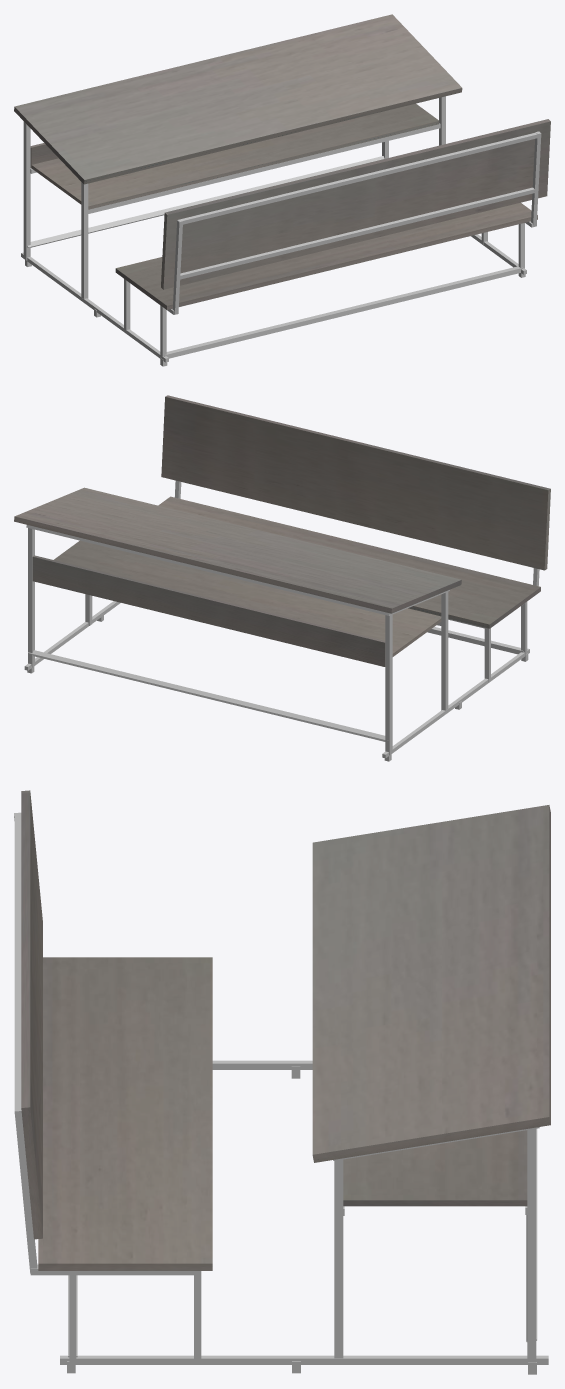
File: desk.obj
3 renders of one model, top to bottom at view 1: azimuth 30°, elevation 25°; view 2: azimuth 150°, elevation 25°; view 3: azimuth 270°, elevation 25°, orthographic. The views are drawn at different scales.
Visible parts, largest first — view 1: Cube, Cube.027, Cube.007, Cube.022, Cube.018, Cube.025, Cube.026, Cube.008, Cube.011, Cube.006, Cube.012, Cube.003 (+3 smaller); view 2: Cube.027, Cube, Cube.007, Cube.010, Cube.022, Cube.011, Cube.001, Cube.006, Cube.012, Cube.003, Cube.005, Cube.018 (+1 smaller); view 3: Cube, Cube.022, Cube.007, Cube.027, Cube.013, Cube.025, Cube.005, Cube.004, Cube.024, Cube.012, Cube.019, Cube.017 (+1 smaller).
Part boxes in pixels (x1,y1,x2,y2): Cube: (14,14,462,184); Cube.027: (161,119,550,289); Cube.007: (31,103,439,209); Cube.022: (115,202,537,309); Cube.018: (164,266,523,358); Cube.025: (178,132,540,224); Cube.026: (180,187,534,279); Cube.008: (88,123,440,213); Cube.011: (27,156,384,247); Cube.006: (23,121,30,260); Cube.012: (21,252,168,362); Cube.003: (81,182,88,298); Cube.027: (161,395,550,570); Cube: (14,487,461,613); Cube.007: (54,540,441,656); Cube.010: (32,555,385,666); Cube.022: (158,496,540,628); Cube.011: (28,650,385,741); Cube.001: (26,525,449,615); Cube.006: (385,613,392,755); Cube.012: (382,648,529,758); Cube.003: (441,592,448,710); Cube.005: (28,528,34,667); Cube.018: (427,627,523,654); Cube: (312,805,550,1162); Cube.022: (38,957,212,1270); Cube.007: (343,1130,527,1206); Cube.027: (21,790,42,1239); Cube.013: (60,1355,548,1364); Cube.025: (14,813,21,1108); Cube.005: (527,1128,536,1363); Cube.004: (334,1159,343,1358); Cube.024: (14,1108,37,1273); Cube.012: (212,1060,312,1069); Cube.019: (30,1264,201,1275); Cube.017: (194,1275,201,1363).
Size of the model in its own units: 9.1 by 3.73 by 6.52.
